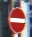No entry: (6, 5, 27, 32)
